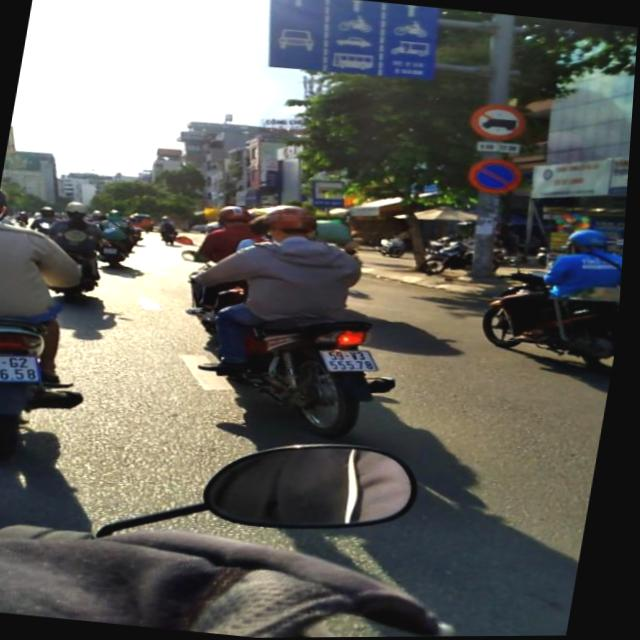Ben xe buyt: (309, 178, 351, 210)
Cam do xe: (467, 156, 527, 197)
Cam xe tai: (468, 102, 530, 144)
